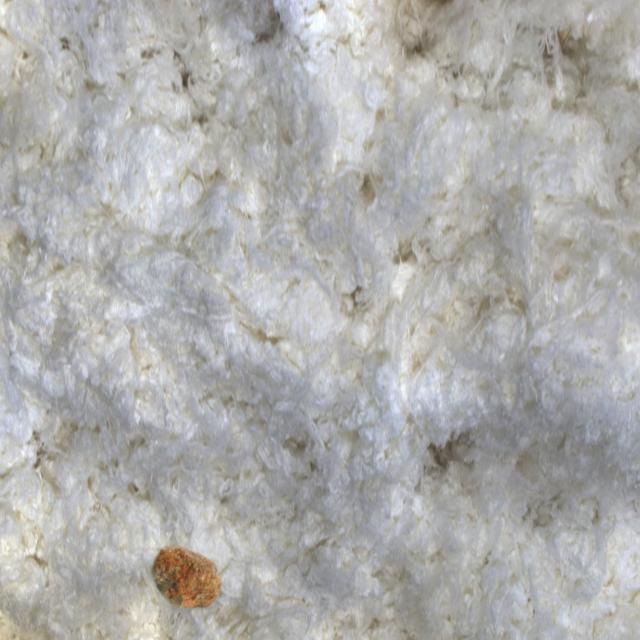dust: (121, 518, 264, 640)
